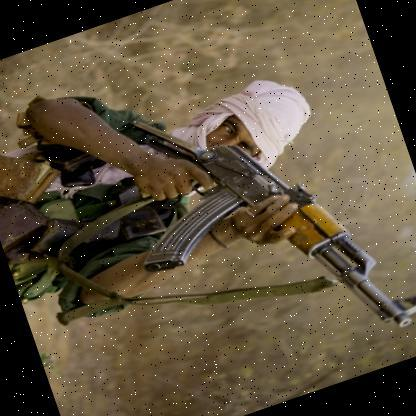rifle: (90, 48, 416, 403)
